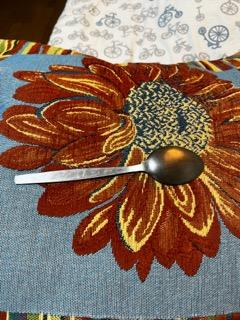spoon: (14, 144, 206, 188)
